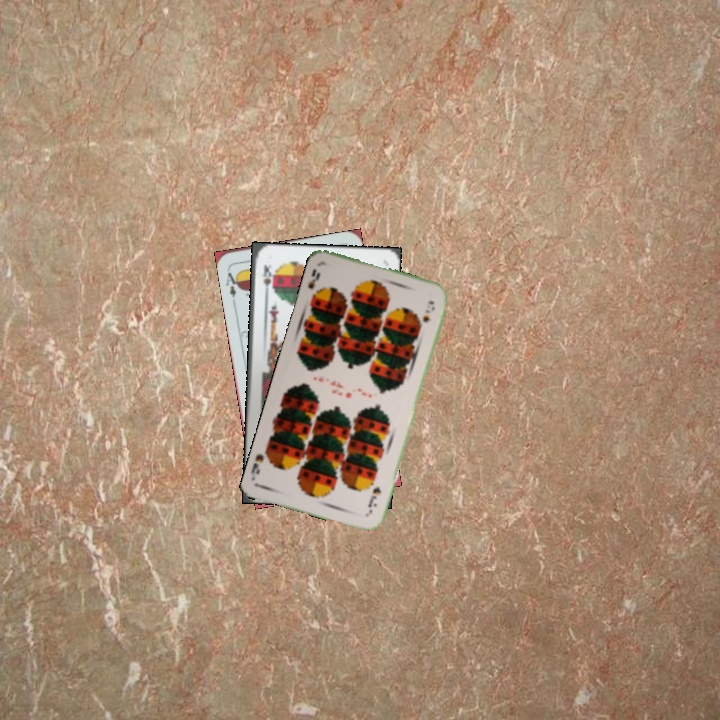EA: (222, 265, 243, 300)
S9: (303, 265, 323, 302), (364, 483, 384, 516)
SK: (259, 260, 274, 298)
